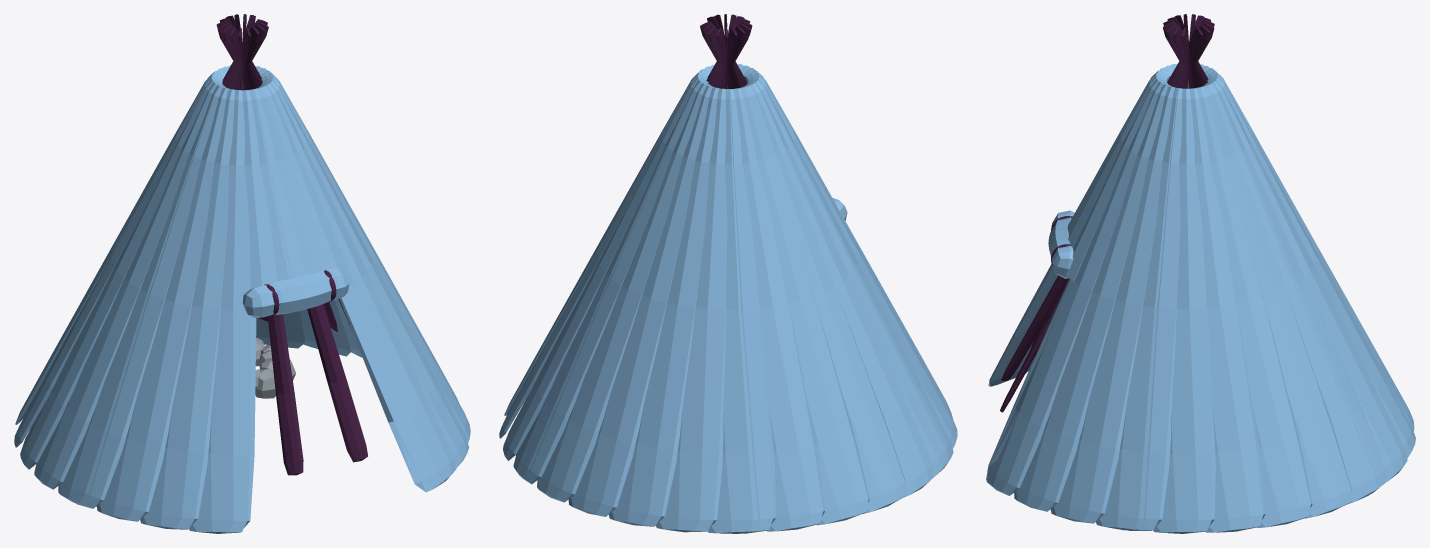
File: Tält.fbx
The picture shows the model from 3 angles, left to right: view 1: azimuth 30°, elevation 25°; view 2: azimuth 150°, elevation 25°; view 3: azimuth 270°, elevation 25°; orthographic projection.
Parts seen in each view (by area): view 1: Cube.273; view 2: Cube.273; view 3: Cube.273.
Part boxes in pixels (x1=…): Cube.273: x1=14, y1=14, x2=470, y2=533; Cube.273: x1=499, y1=14, x2=957, y2=533; Cube.273: x1=986, y1=14, x2=1415, y2=533.
Size of the model in its own units: 1348 by 1358 by 1264.
